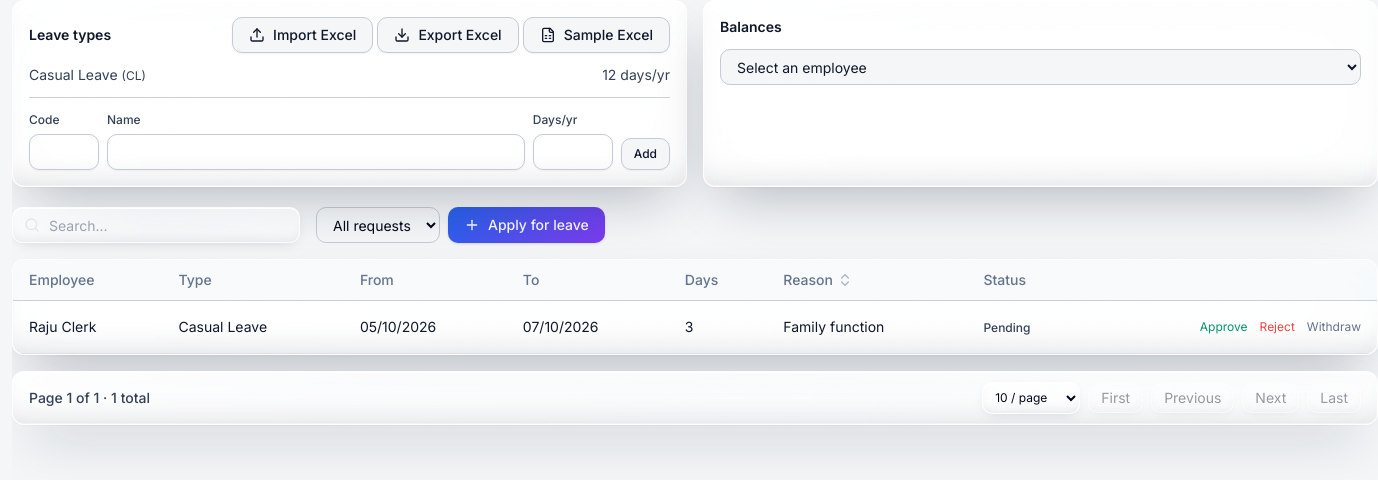
it: Staff Leave page › shows a balance with what is left
Select "Raju Clerk" in the dropdown named "Employee balances" at (1040, 67), box x1=720 y1=49 x2=1361 y2=85
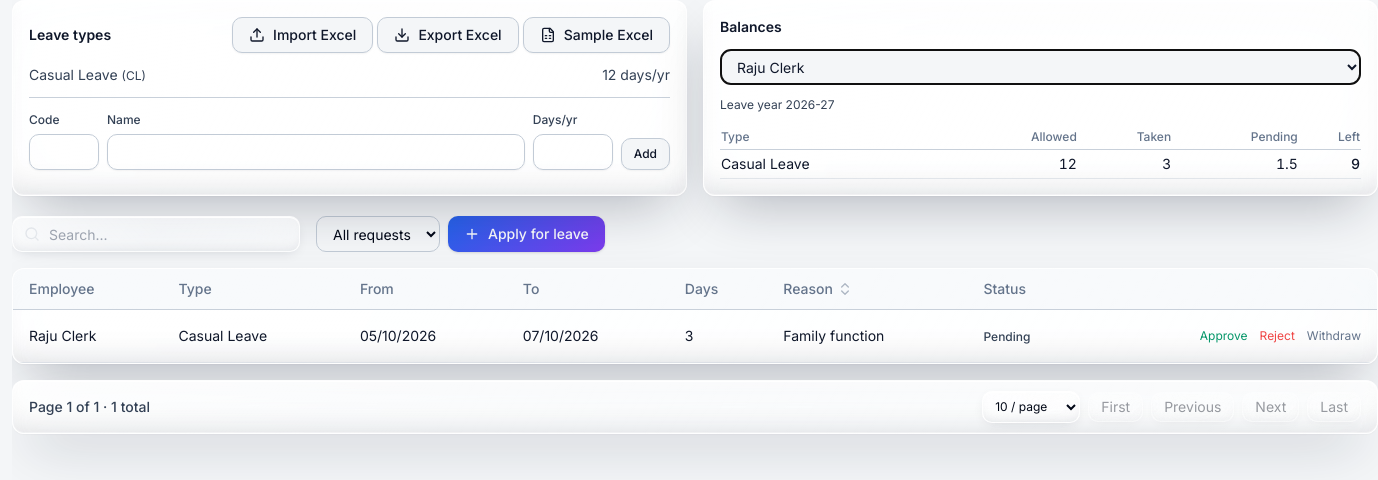
Check: the text "Leave year 2026-27" is shown, box x1=720 y1=97 x2=834 y2=112
Check: the text "9" is shown, box x1=1299 y1=150 x2=1361 y2=178
